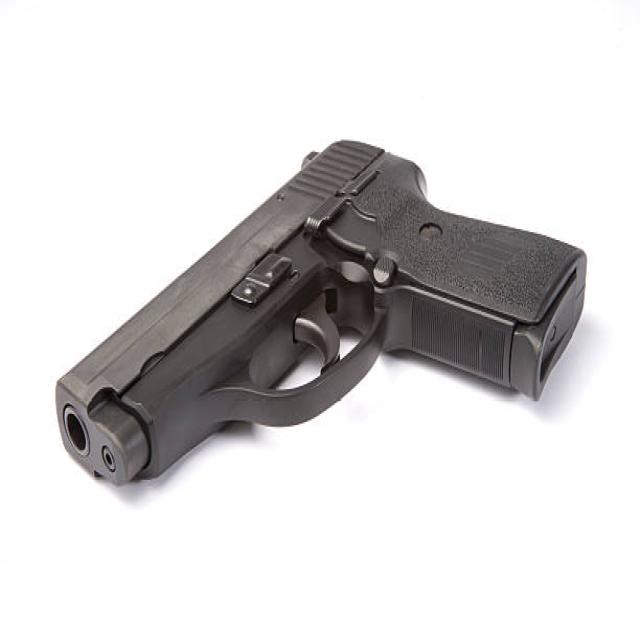pistol: (54, 127, 599, 492)
